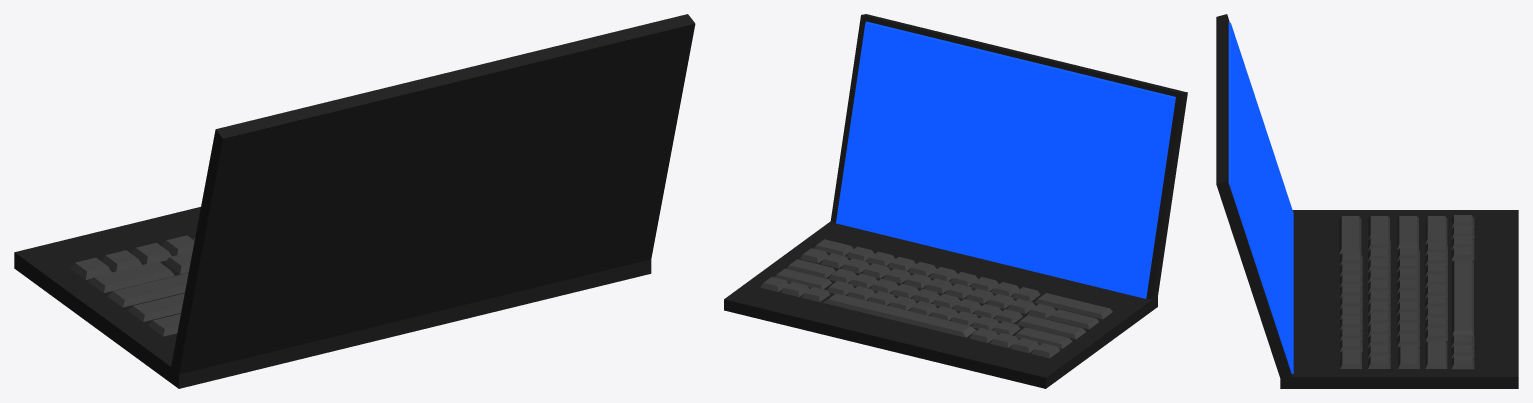
File: laptop.fbx
The picture shows the model from 3 angles, left to right: view 1: azimuth 30°, elevation 25°; view 2: azimuth 150°, elevation 25°; view 3: azimuth 270°, elevation 25°; orthographic projection. The views are drawn at different scales.
Parts seen in each view (by area): view 1: Cube, Keyboard; view 2: Cube, Keyboard; view 3: Cube, Keyboard.
Part boxes in pixels (x1,y1,x2,y2): Cube: (14,14,695,388); Keyboard: (70,235,195,336); Cube: (724,14,1187,388); Keyboard: (760,239,1112,358); Cube: (1216,14,1518,388); Keyboard: (1339,215,1474,369).
Size of the model in its own units: 251 by 145 by 192.
